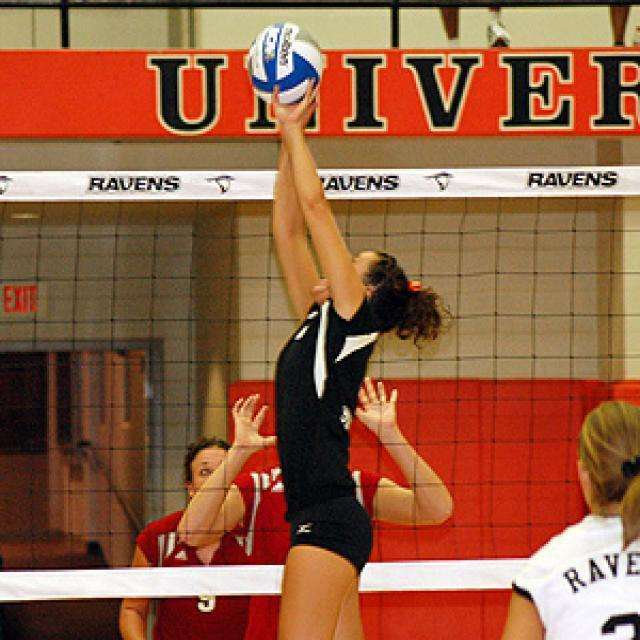volleyball: (250, 22, 322, 104)
